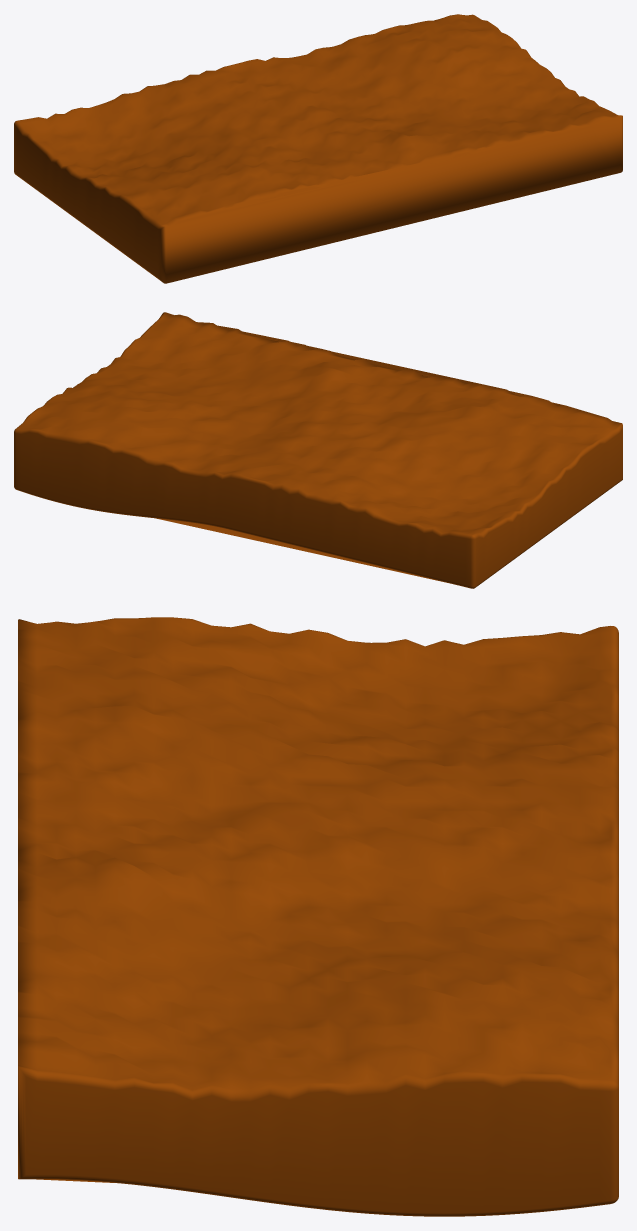
File: camur2.fbx
3 renders of one model, top to bottom at view 1: azimuth 30°, elevation 25°; view 2: azimuth 150°, elevation 25°; view 3: azimuth 270°, elevation 25°, orthographic. The views are drawn at different scales.
Parts seen in each view (by area): view 1: toprak zemin; view 2: toprak zemin; view 3: toprak zemin.
Boxes of the visible parts, x1,y1,x2,y2 form: toprak zemin: (14, 14, 622, 283); toprak zemin: (14, 312, 622, 588); toprak zemin: (18, 617, 618, 1216).
Bounding box in the file's own units: 400 × 70.58 × 225.
